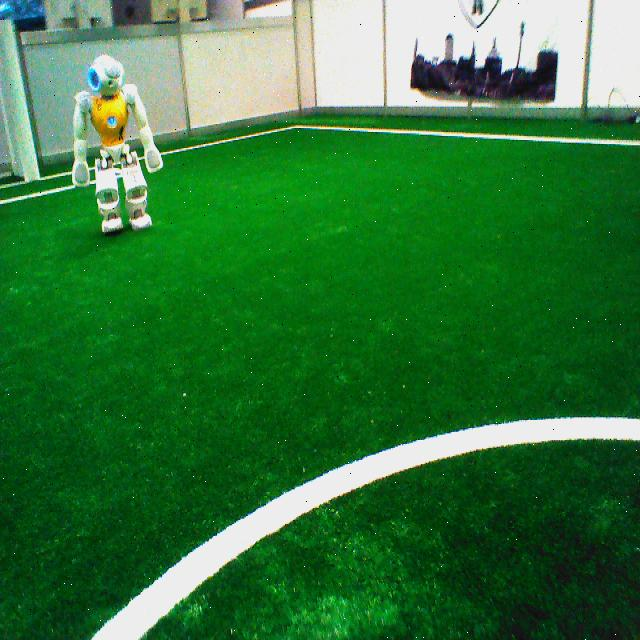goalpost: (1, 22, 42, 182)
